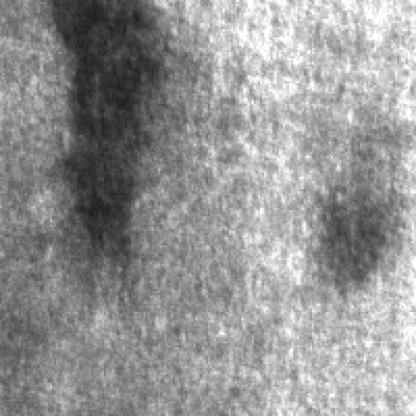patches: (58, 0, 160, 241), (316, 181, 400, 289)
